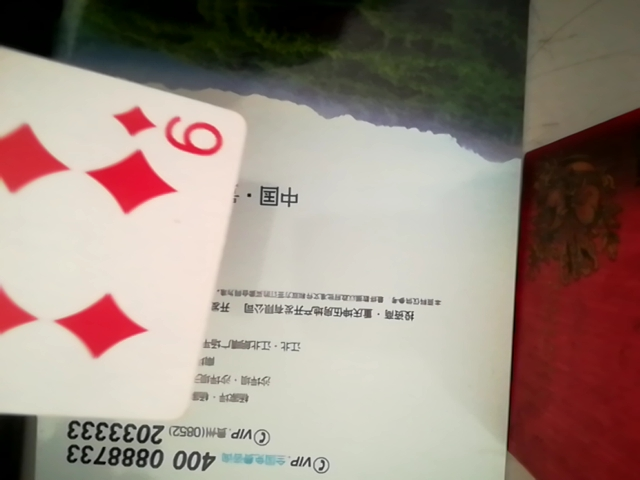fk 9: (0, 10, 256, 437)
